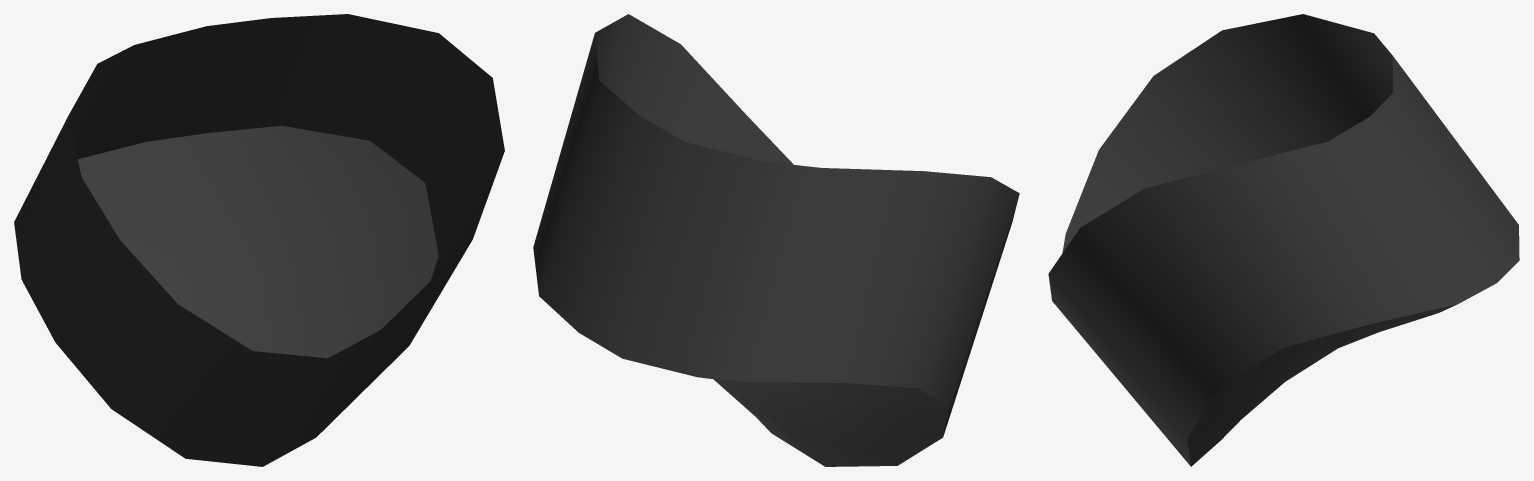
The model's file is crystal_controller_right_button2.obj.
3 views of the same model, side by side, from view 1: azimuth 30°, elevation 25°; view 2: azimuth 150°, elevation 25°; view 3: azimuth 270°, elevation 25° (orthographic). The views are drawn at different scales.
Visible parts, largest first — view 1: crystal_controller_right_button2; view 2: crystal_controller_right_button2; view 3: crystal_controller_right_button2.
Part boxes in pixels (bbox=[...]): crystal_controller_right_button2: bbox=[14, 14, 504, 466]; crystal_controller_right_button2: bbox=[533, 14, 1019, 466]; crystal_controller_right_button2: bbox=[1048, 14, 1519, 466].
Size of the model in its own units: 0.0305 by 0.0289 by 0.0313.
1 material, 1 textured.
